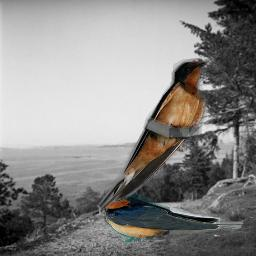Swallow: (93, 57, 211, 211), (101, 185, 243, 242)
